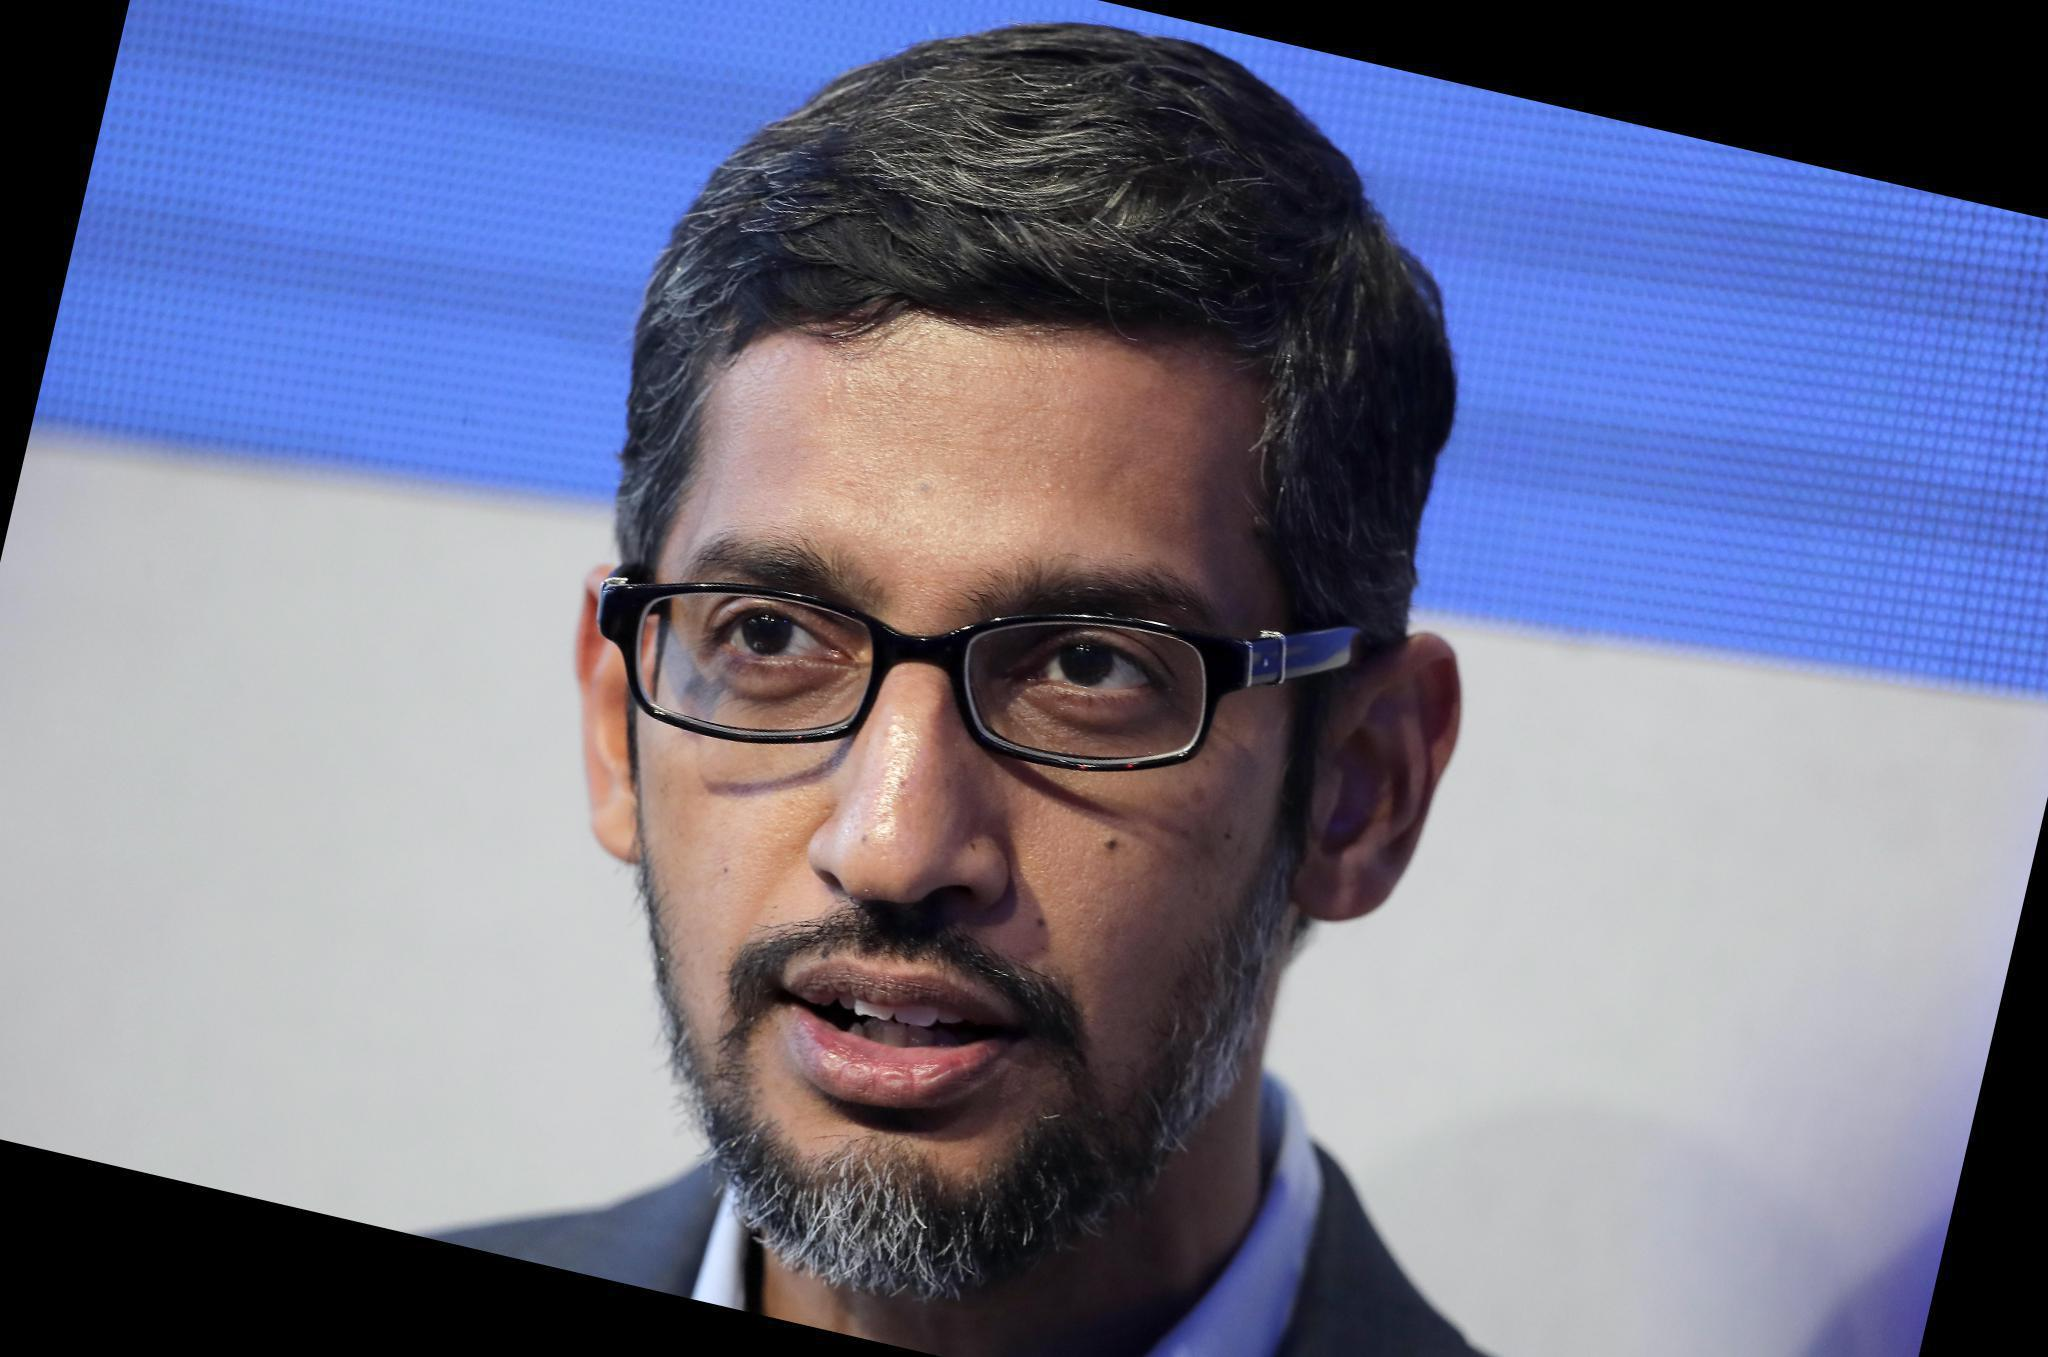Sober: (645, 357, 1259, 1150)
